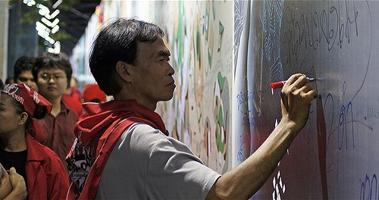person: (70, 31, 315, 200)
